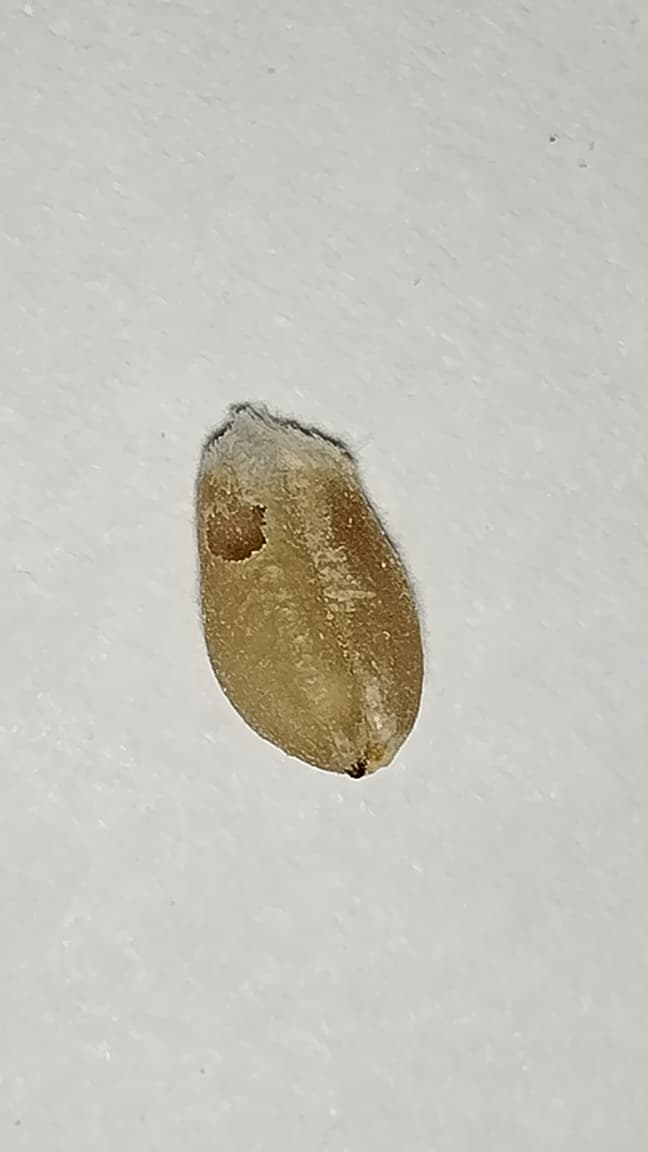damage: (194, 404, 424, 778)
insectdamage: (204, 465, 276, 565)
